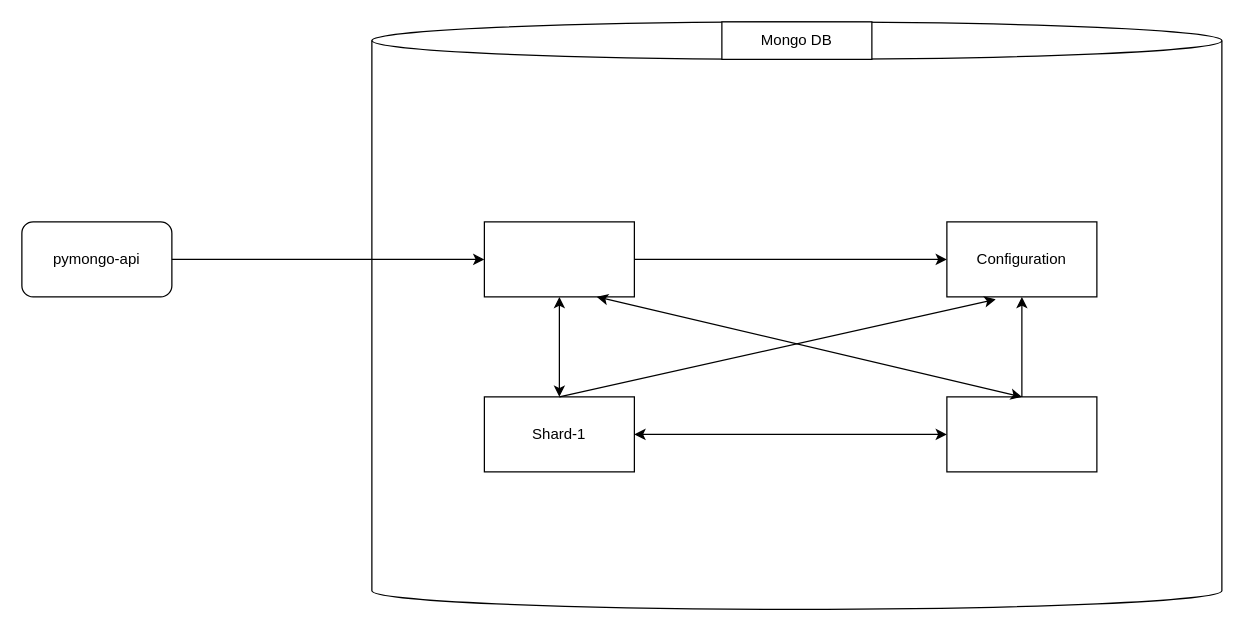
Some shapes in this 1244 by 631 pixel diagram are drawn without their labels. Here are the shapes that lost their labels. From the top down, the centre of each, then its label:
At pixel 558 259: "Router".
At pixel 1021 434: "Shard-2".
